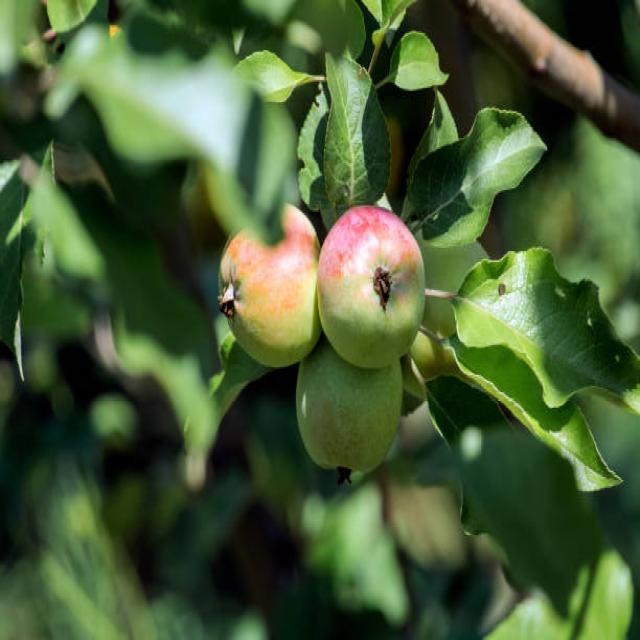Unripe: (317, 204, 427, 373), (216, 203, 319, 368)
